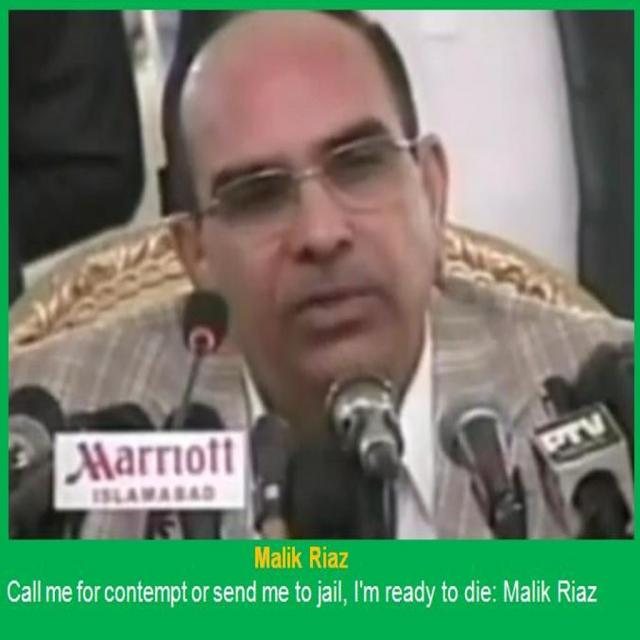nomask: (194, 24, 425, 412)
